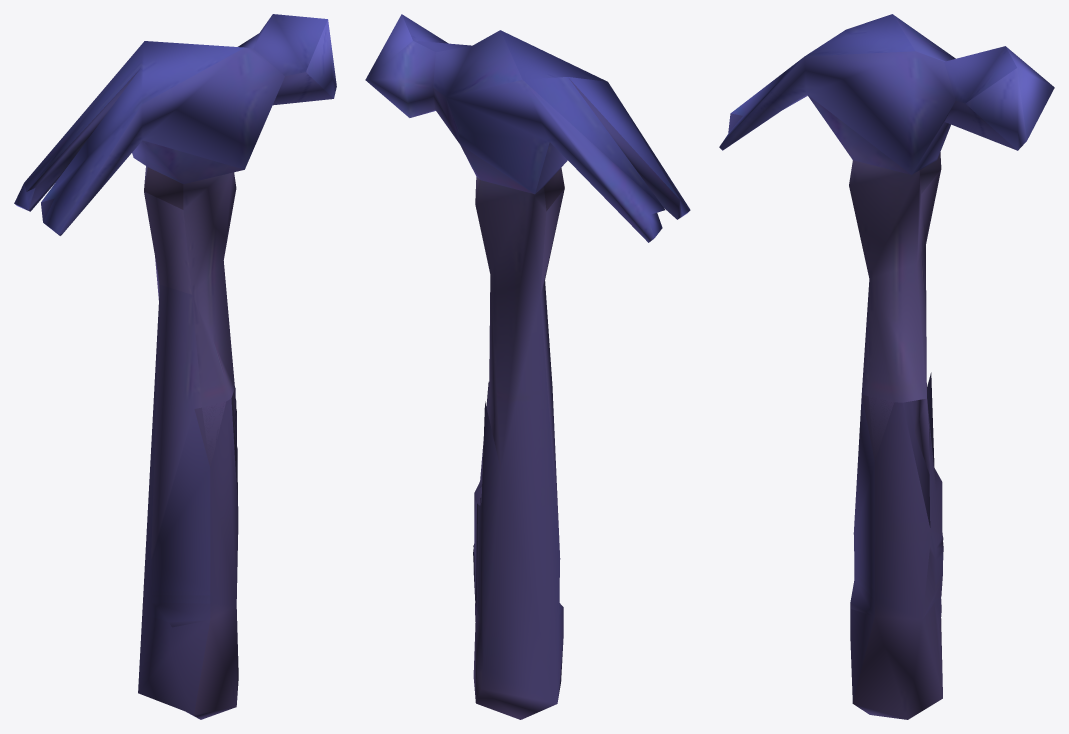
The model's file is model.progressive.glb.
3 renders of one model, left to right at view 1: azimuth 30°, elevation 25°; view 2: azimuth 150°, elevation 25°; view 3: azimuth 330°, elevation 25°, orthographic. The views are drawn at different scales.
Parts seen in each view (by area): view 1: mesh_input; view 2: mesh_input; view 3: mesh_input.
Boxes of the visible parts, <box> form: mesh_input: <box>14,14,336,719</box>; mesh_input: <box>365,14,690,719</box>; mesh_input: <box>719,14,1054,719</box>.
Size of the model in its own units: 0.8789 by 1.89 by 0.248.
1 material, 1 textured.
